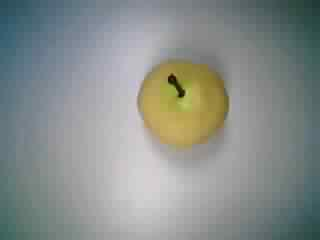pear: (129, 50, 234, 153)
